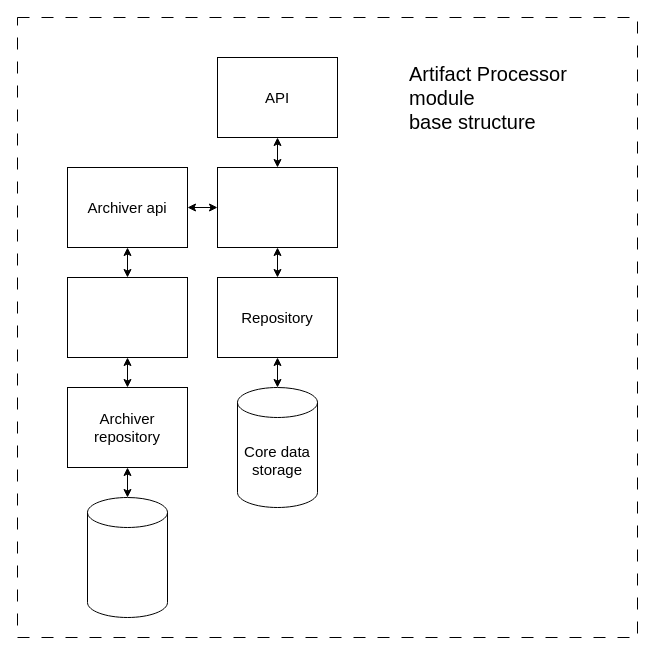
Some shapes in this 655 by 655 pixel diagram are drawn without their labels. Each missing label, with the centre of its shape:
"Archiver data storage" belongs at (x=127, y=557).
"Archiver service" belongs at (x=127, y=317).
"Core services" belongs at (x=277, y=207).
